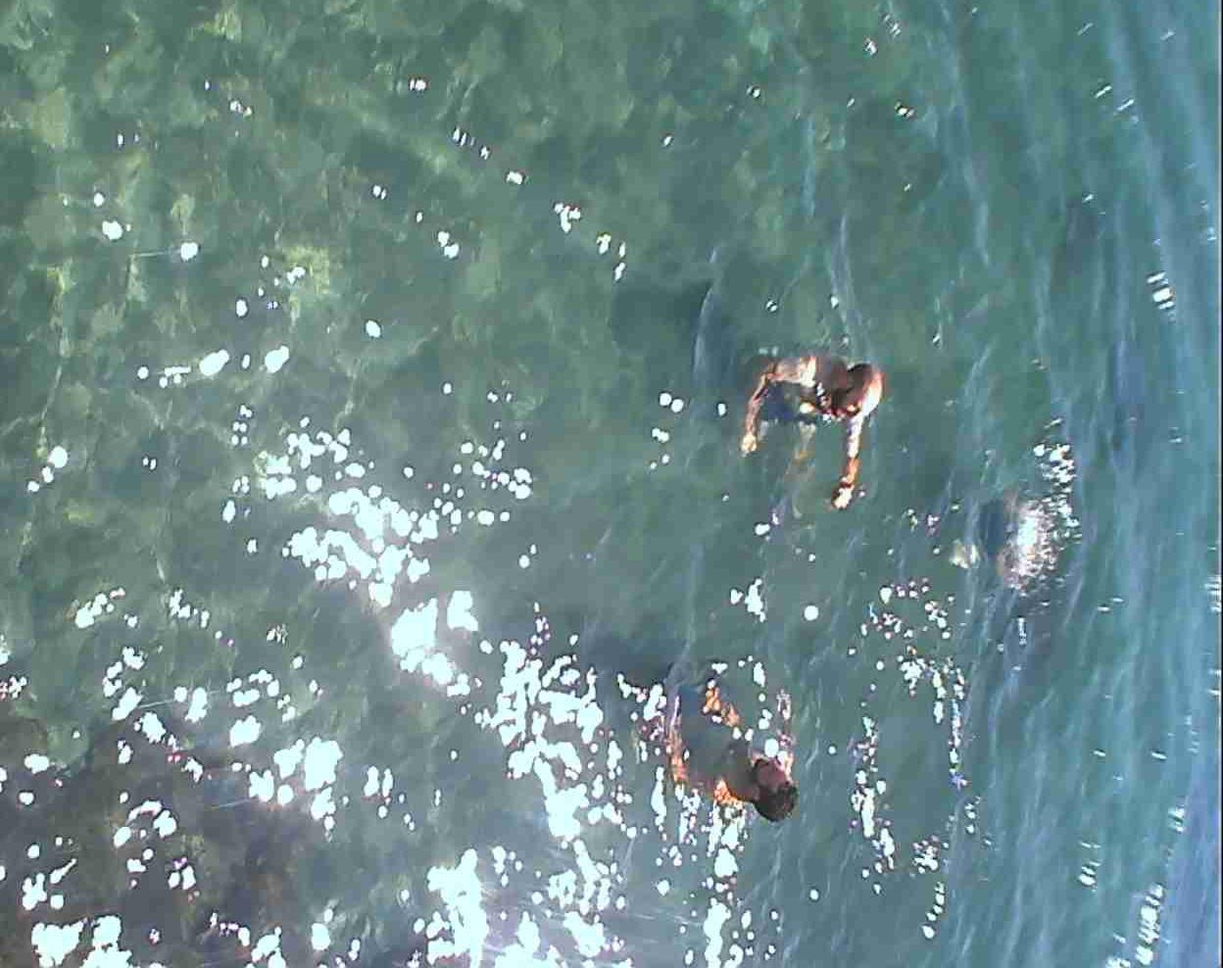human: (739, 329, 876, 515), (657, 681, 807, 836)
